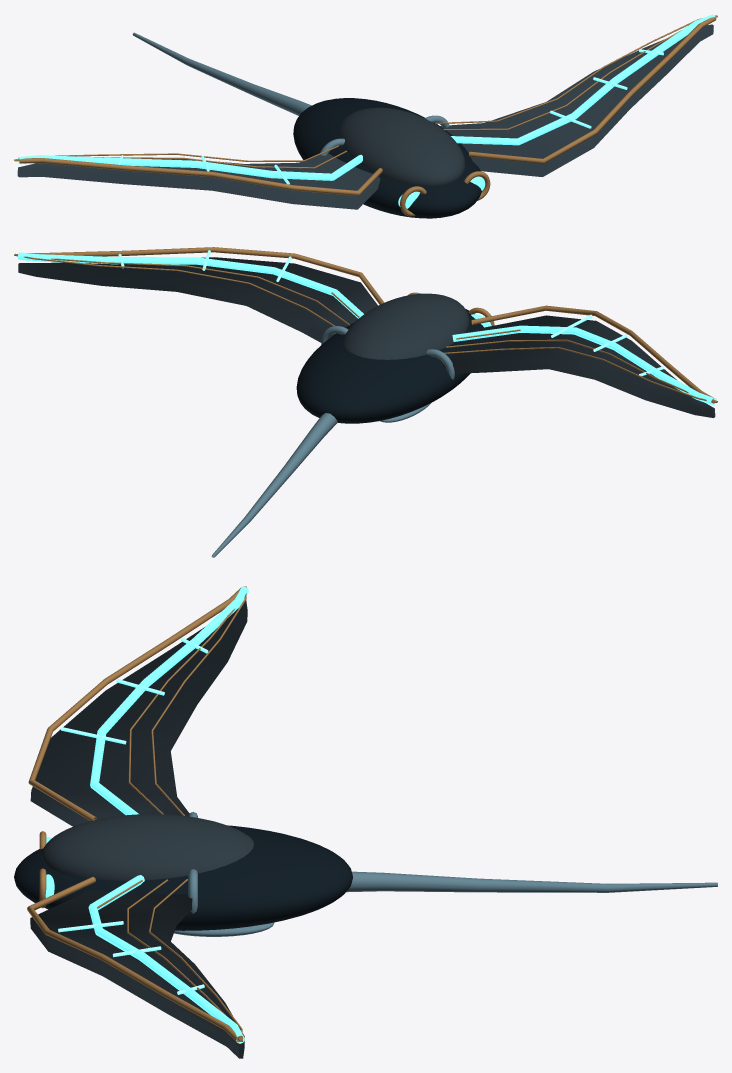
The model's file is aether.glb.
The picture shows the model from 3 angles, top to bottom: view 1: azimuth 30°, elevation 25°; view 2: azimuth 150°, elevation 25°; view 3: azimuth 270°, elevation 25°; orthographic projection. The views are drawn at different scales.
Parts seen in each view (by area): view 1: AETHER | Articulated wing1, AETHER | Articulated wing-1, AETHER | Raised dorsal crest, AETHER | Carbon fuselage, AETHER | Wing light artery-1, AETHER | Wing light artery1, AETHER | Wing leading gold edge-1, AETHER | Tail drive, AETHER | Wing leading gold edge1, AETHER | Wing engraved bronze vane10.85, AETHER | Wing engraved bronze vane-10.85, AETHER | Wing engraved bronze vane10.67 (+1 smaller); view 2: AETHER | Articulated wing1, AETHER | Articulated wing-1, AETHER | Carbon fuselage, AETHER | Raised dorsal crest, AETHER | Wing light artery1, AETHER | Wing light artery-1, AETHER | Wing leading gold edge1, AETHER | Tail drive, AETHER | Wing leading gold edge-1, AETHER | Wing engraved bronze vane10.85, AETHER | Wing engraved bronze vane10.67, AETHER | Wing engraved bronze vane-10.85 (+1 smaller); view 3: AETHER | Articulated wing-1, AETHER | Carbon fuselage, AETHER | Articulated wing1, AETHER | Raised dorsal crest, AETHER | Tail drive, AETHER | Wing light artery-1, AETHER | Wing leading gold edge-1, AETHER | Wing light artery1, AETHER | Wing leading gold edge1.
Part boxes in pixels (x1,y1,x2,y2): AETHER | Articulated wing1: (440,24,713,176); AETHER | Articulated wing-1: (17,153,380,209); AETHER | Raised dorsal crest: (339,107,465,185); AETHER | Carbon fuselage: (293,98,481,218); AETHER | Wing light artery-1: (18,154,362,180); AETHER | Wing light artery1: (451,14,715,145); AETHER | Wing leading gold edge-1: (19,158,382,195); AETHER | Tail drive: (132,32,311,115); AETHER | Wing leading gold edge1: (469,16,716,163); AETHER | Wing engraved bronze vane10.85: (435,15,716,124); AETHER | Wing engraved bronze vane-10.85: (14,145,338,161); AETHER | Wing engraved bronze vane10.67: (443,15,716,130); AETHER | Articulated wing1: (18,257,377,342); AETHER | Articulated wing-1: (442,315,715,417); AETHER | Carbon fuselage: (296,309,483,423); AETHER | Raised dorsal crest: (343,293,469,359); AETHER | Wing light artery1: (18,252,363,318); AETHER | Wing light artery-1: (452,325,716,405); AETHER | Wing leading gold edge1: (28,247,384,304); AETHER | Tail drive: (211,413,337,557); AETHER | Wing leading gold edge-1: (471,305,714,403); AETHER | Wing engraved bronze vane10.85: (14,254,334,326); AETHER | Wing engraved bronze vane10.67: (15,254,349,325); AETHER | Wing engraved bronze vane-10.85: (444,347,717,402); AETHER | Articulated wing-1: (30,600,247,826); AETHER | Carbon fuselage: (14,825,352,930); AETHER | Articulated wing1: (30,890,244,1058); AETHER | Raised dorsal crest: (41,814,253,880); AETHER | Tail drive: (346,871,717,892); AETHER | Wing light artery-1: (90,586,248,815); AETHER | Wing leading gold edge-1: (28,588,240,820); AETHER | Wing light artery1: (88,875,244,1043); AETHER | Wing leading gold edge1: (27,876,240,1042).
Size of the model in its own units: 7.26 by 0.9657 by 5.11.
